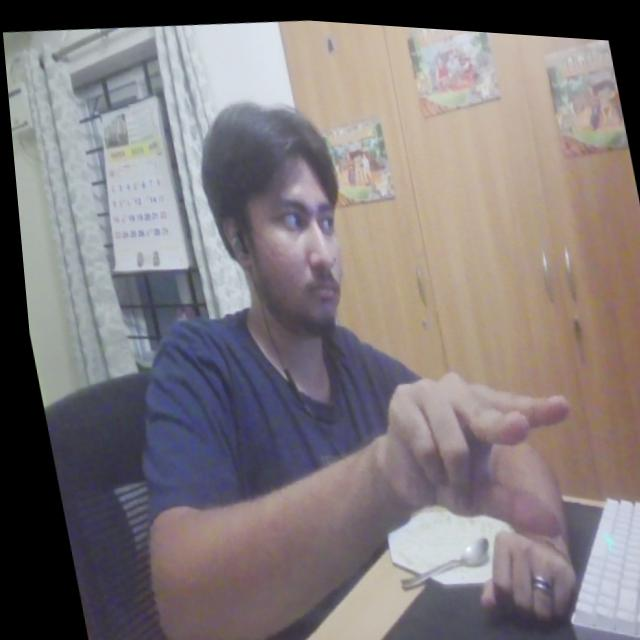no: (364, 345, 600, 558)
